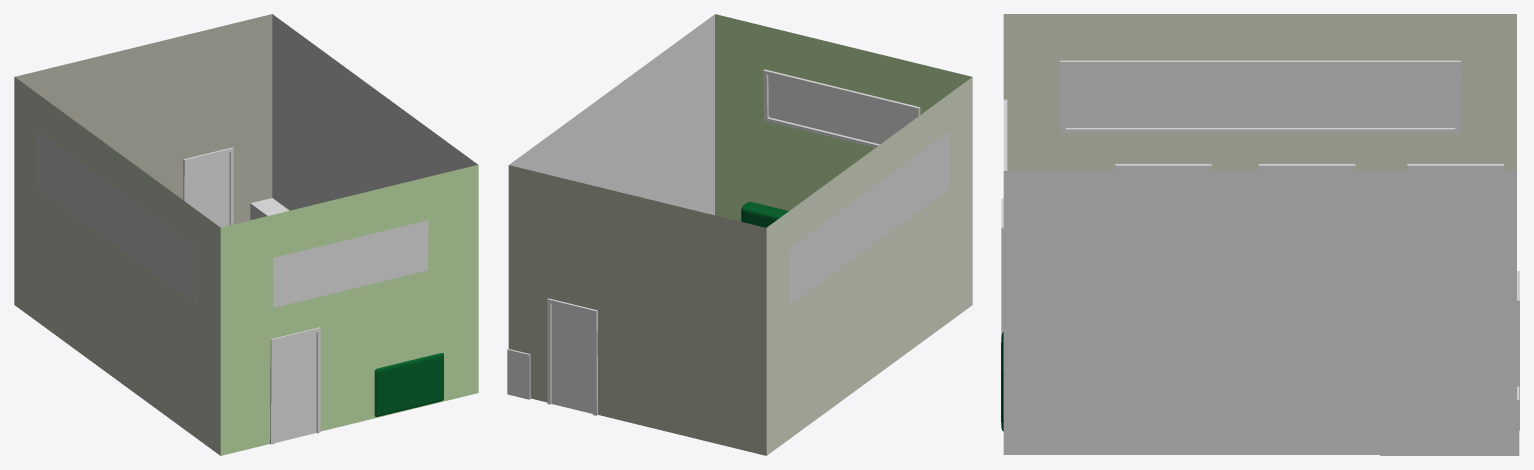
The model's file is pauls diner.fbx.
The picture shows the model from 3 angles, left to right: view 1: azimuth 30°, elevation 25°; view 2: azimuth 150°, elevation 25°; view 3: azimuth 270°, elevation 25°; orthographic projection. The views are drawn at different scales.
Visible parts, largest first — view 1: Walldoorfront, Wall2, Walldoorback, Wall, Windows, Door 1, Bench 4, Windows.001, Door 1.001, Windows.002, Window frames.003, Window frames (+3 smaller); view 2: Walldoorback, Wall2, Walldoorfront, Wall, Windows, Door 1.002, Windows.001, Windows.002, Window frames.001, Window frames.003, Bar, Door frame.002 (+1 smaller); view 3: Wall, Wall2, Windows, Bar, Windows.001, Window frames.003, Lamp1, Lamp2, Lamp3.
Part boxes in pixels (bbox=[...]): Walldoorfront: bbox=[220, 164, 478, 455]; Wall2: bbox=[14, 77, 220, 455]; Walldoorback: bbox=[15, 14, 272, 224]; Wall: bbox=[272, 14, 477, 210]; Windows: bbox=[39, 135, 424, 303]; Door 1: bbox=[274, 332, 316, 442]; Bench 4: bbox=[374, 353, 443, 416]; Windows.001: bbox=[39, 138, 195, 297]; Door 1.001: bbox=[188, 152, 229, 227]; Windows.002: bbox=[277, 230, 424, 302]; Window frames.003: bbox=[36, 131, 197, 305]; Window frames: bbox=[273, 220, 428, 307]; Walldoorback: bbox=[508, 165, 766, 455]; Wall2: bbox=[766, 77, 972, 455]; Walldoorfront: bbox=[715, 14, 971, 221]; Wall: bbox=[509, 14, 714, 215]; Windows: bbox=[768, 75, 947, 300]; Door 1.002: bbox=[551, 304, 592, 413]; Windows.001: bbox=[791, 137, 947, 299]; Windows.002: bbox=[768, 82, 914, 141]; Window frames.001: bbox=[763, 69, 920, 147]; Window frames.003: bbox=[788, 131, 949, 305]; Bar: bbox=[507, 349, 530, 399]; Door frame.002: bbox=[547, 298, 596, 415]; Wall: bbox=[1003, 171, 1516, 454]; Wall2: bbox=[1003, 14, 1516, 170]; Windows: bbox=[1066, 65, 1455, 127]; Bar: bbox=[1380, 386, 1519, 455]; Windows.001: bbox=[1066, 65, 1455, 127]; Window frames.003: bbox=[1060, 60, 1461, 133]; Lamp1: bbox=[1115, 164, 1211, 170]; Lamp2: bbox=[1259, 164, 1355, 170]; Lamp3: bbox=[1407, 164, 1503, 170].
Size of the model in its own units: 651 by 552 by 910.
